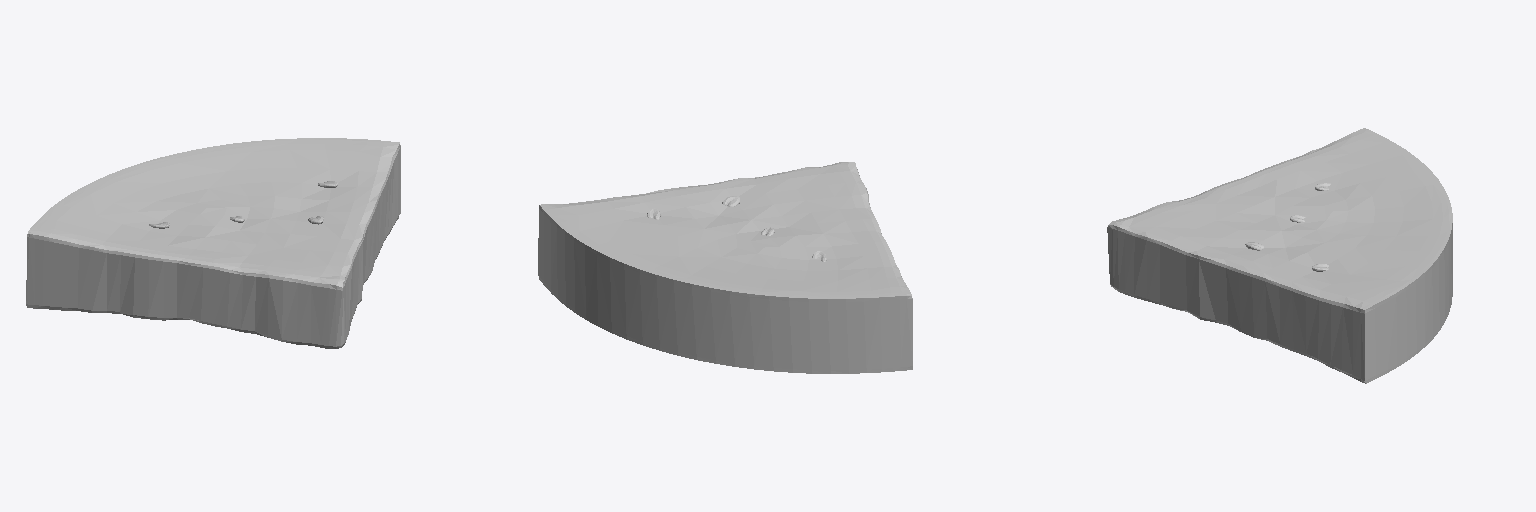
Rendered from Rodaja de sandía.obj.
3 views of the same model, side by side, from view 1: azimuth 30°, elevation 25°; view 2: azimuth 150°, elevation 25°; view 3: azimuth 270°, elevation 25° (orthographic).
Parts seen in each view (by area): view 1: Object.1; view 2: Object.1; view 3: Object.1.
Part boxes in pixels (bbox=[...]): Object.1: bbox=[26, 138, 400, 348]; Object.1: bbox=[538, 162, 912, 373]; Object.1: bbox=[1107, 128, 1452, 383].
Bounding box in the file's own units: 14.14 × 2.72 × 11.3.